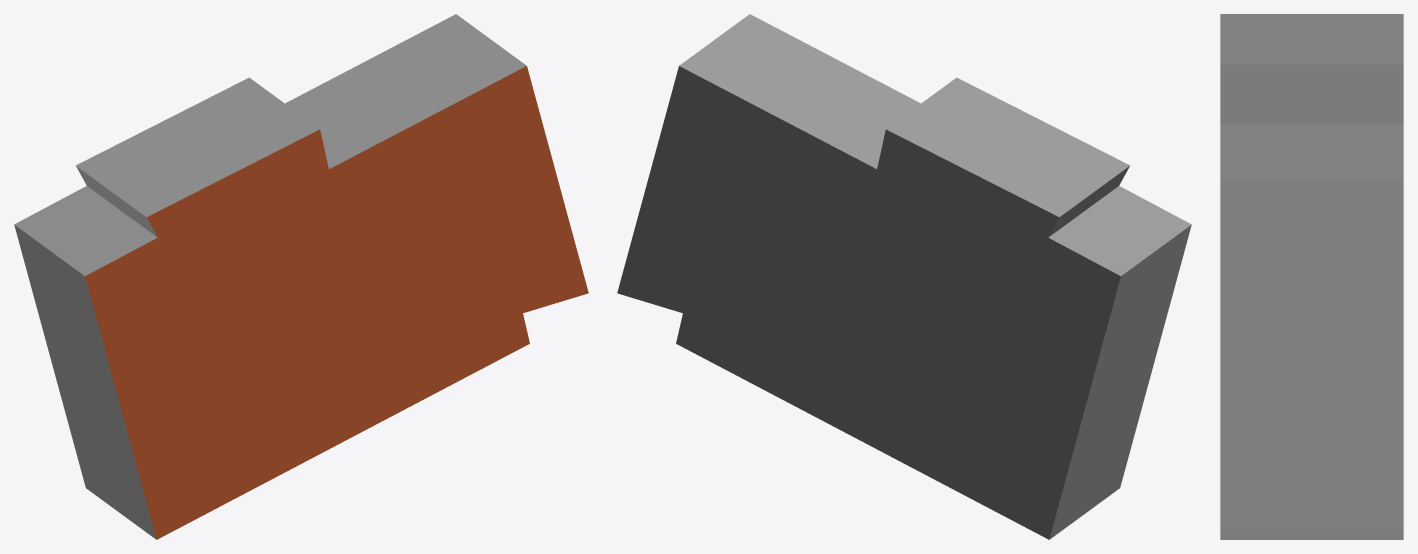
The model's file is construction_5804_assumed_A_Casa_h6m.obj.
3 views of the same model, side by side, from view 1: azimuth 30°, elevation 25°; view 2: azimuth 150°, elevation 25°; view 3: azimuth 270°, elevation 25° (orthographic). The views are drawn at different scales.
Visible parts, largest first — view 1: construction_5804_assumed_A_Casa; view 2: construction_5804_assumed_A_Casa; view 3: construction_5804_assumed_A_Casa.
Boxes of the visible parts, <box> form: construction_5804_assumed_A_Casa: <box>14,14,588,539</box>; construction_5804_assumed_A_Casa: <box>617,14,1191,539</box>; construction_5804_assumed_A_Casa: <box>1220,14,1403,539</box>.
Bounding box in the file's own units: 24.64 × 17.93 × 6.
